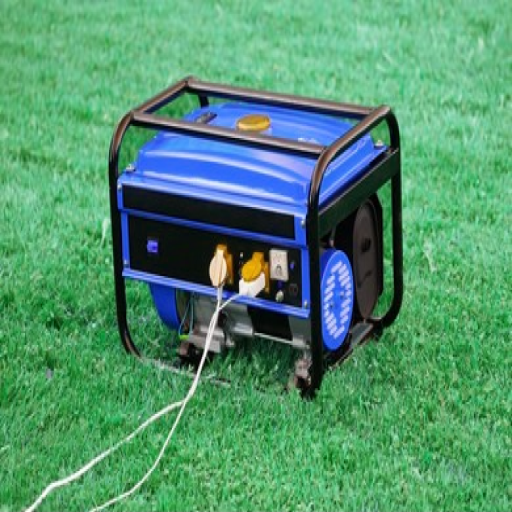portable_generator: (108, 74, 402, 402)
